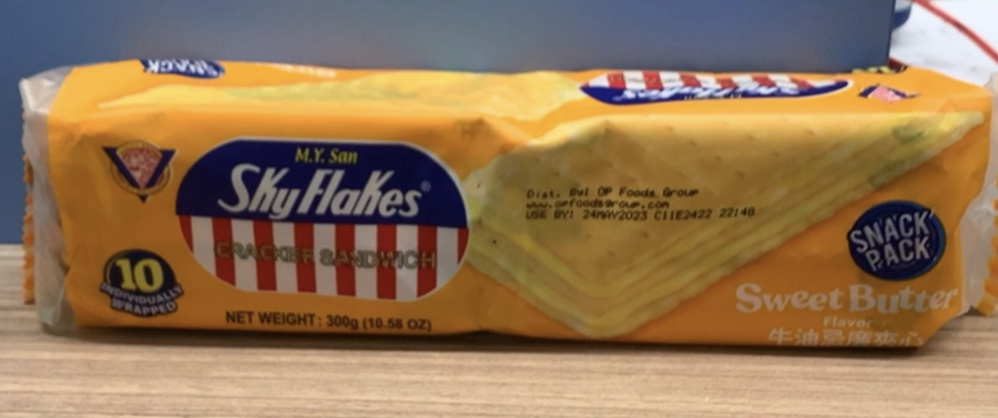crackers_450g: (64, 76, 970, 330)
